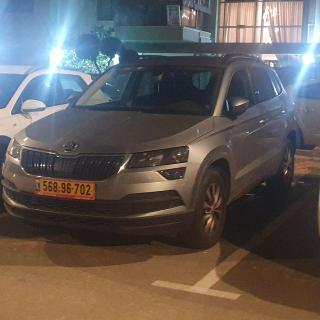LicensePlate: (39, 179, 95, 197)
